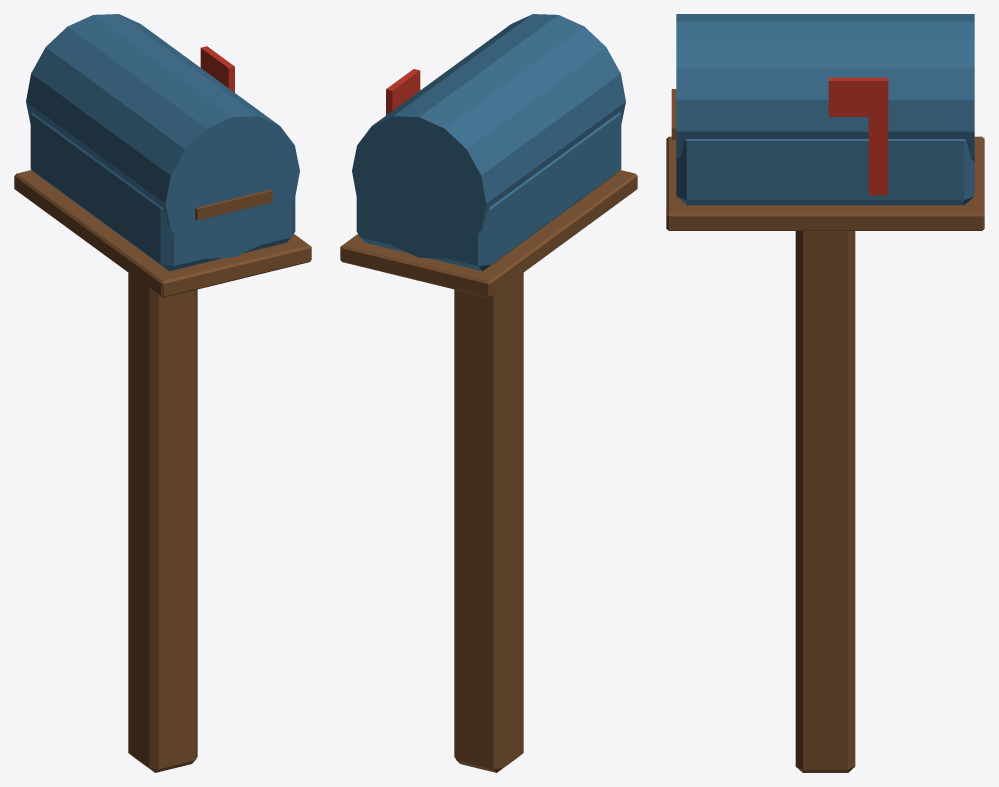
Rendered from Prop_Par_PlotMailbox.glb.
3 views of the same model, side by side, from view 1: azimuth 30°, elevation 25°; view 2: azimuth 150°, elevation 25°; view 3: azimuth 270°, elevation 25° (orthographic). The views are drawn at different scales.
Visible parts, largest first — view 1: Prop_Par_PlotMailbox; view 2: Prop_Par_PlotMailbox; view 3: Prop_Par_PlotMailbox.
Part boxes in pixels (box(x1,y1,x2,y2)): Prop_Par_PlotMailbox: box(14, 14, 311, 772); Prop_Par_PlotMailbox: box(340, 14, 637, 772); Prop_Par_PlotMailbox: box(666, 14, 984, 772).
Size of what is drawn, in the model's own units: 0.28 by 1.24 by 0.48.
